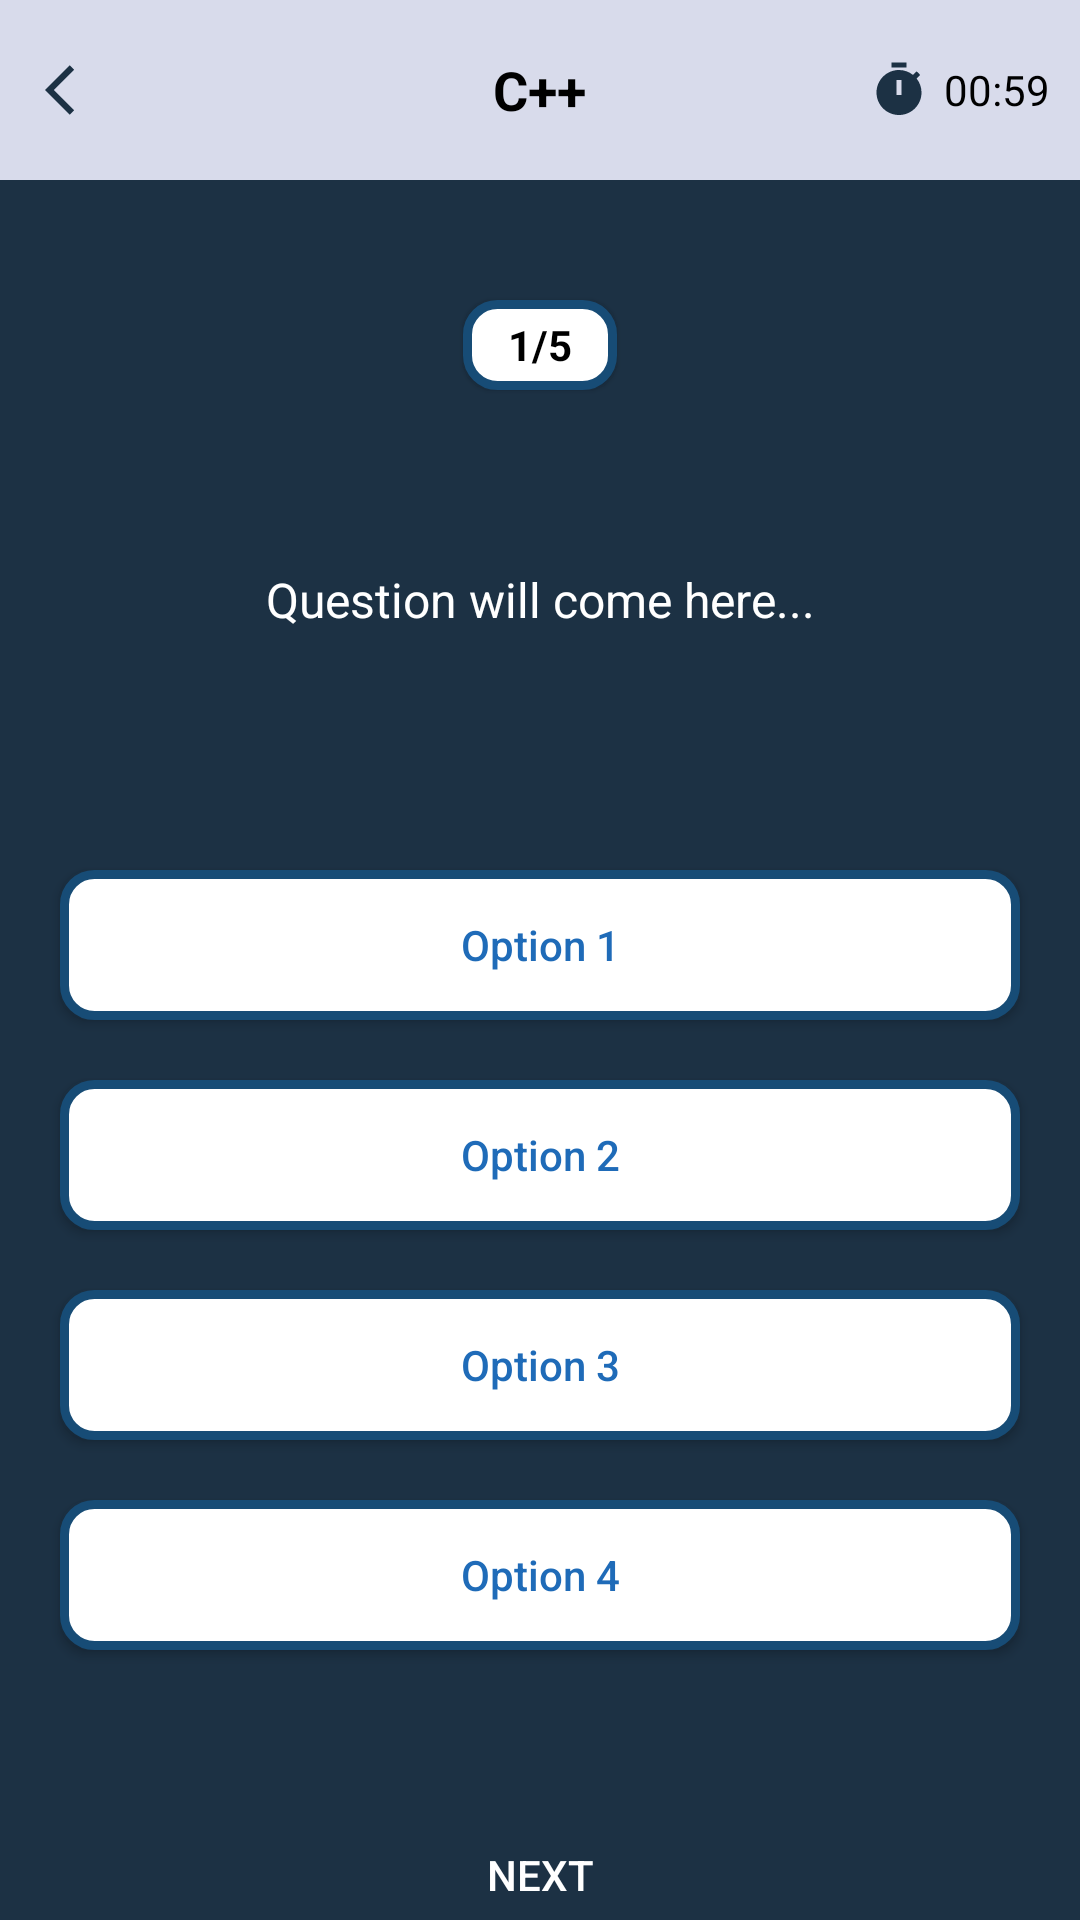

Screen size 1080px x 1920px. Icon name, then its box in pixels as [x1, y1, x2, y2]:
back: [45, 65, 74, 115]
timer: [876, 62, 922, 115]
